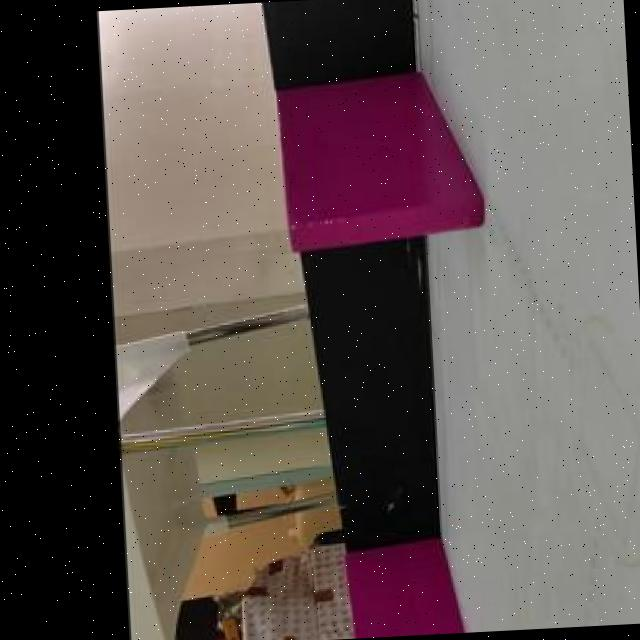xparking: (280, 81, 486, 246), (349, 549, 465, 639)
